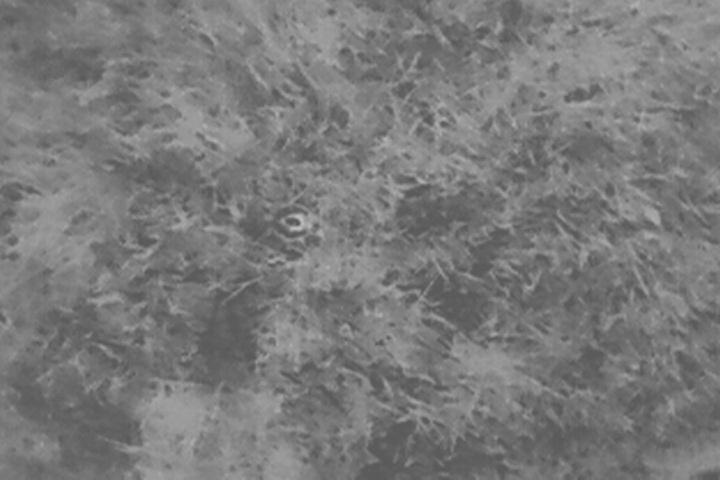landmine: (271, 203, 314, 241)
